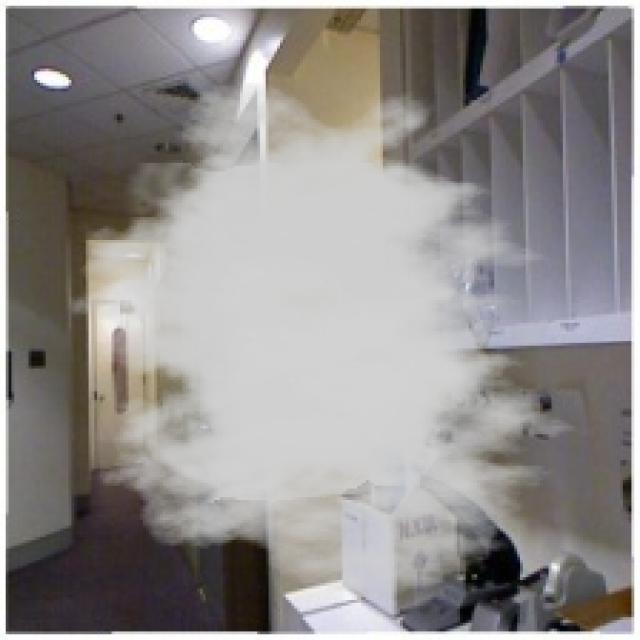Smoke: (57, 80, 600, 594)
